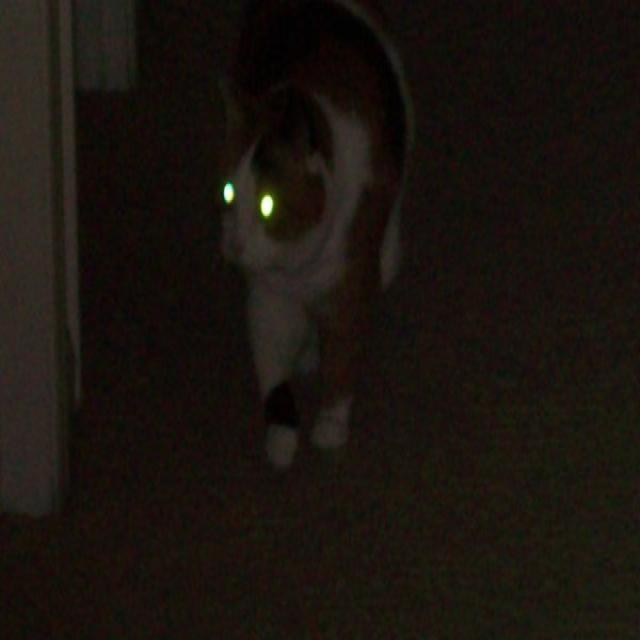Cat: (202, 0, 432, 472)
